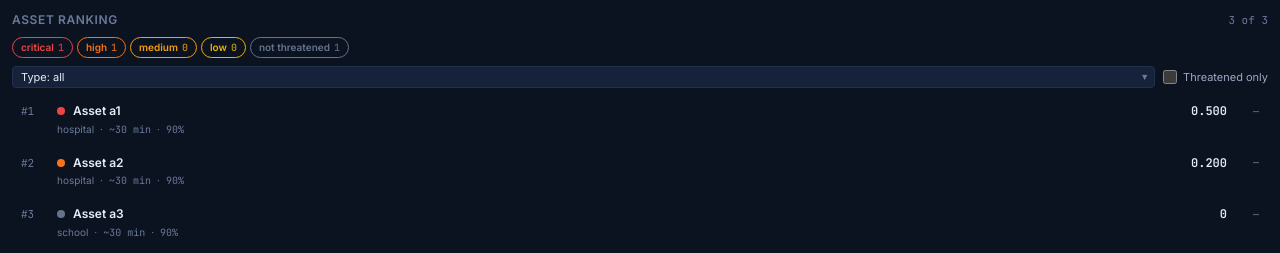
Test case: RankedList › threatened-only hides zero-risk assets
Click the checkbox labelled "Threatened only" at (1170, 77), box [1163, 70, 1177, 84]
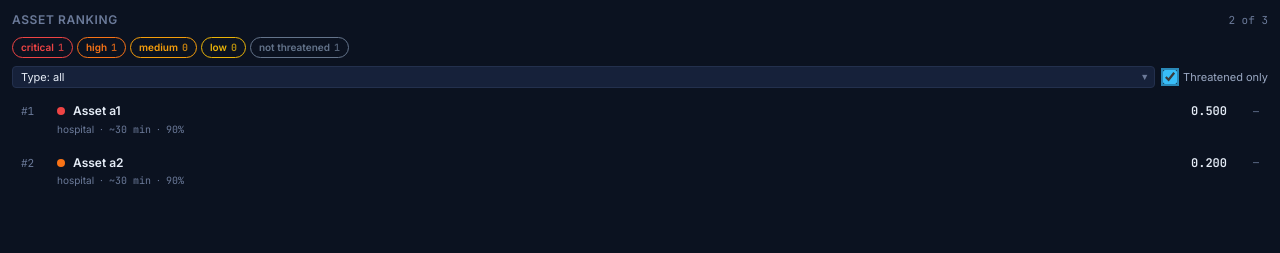
expect the text "Asset a2" is shown: met, box [73, 155, 124, 170]
expect the button "Asset a3" is gone: met
